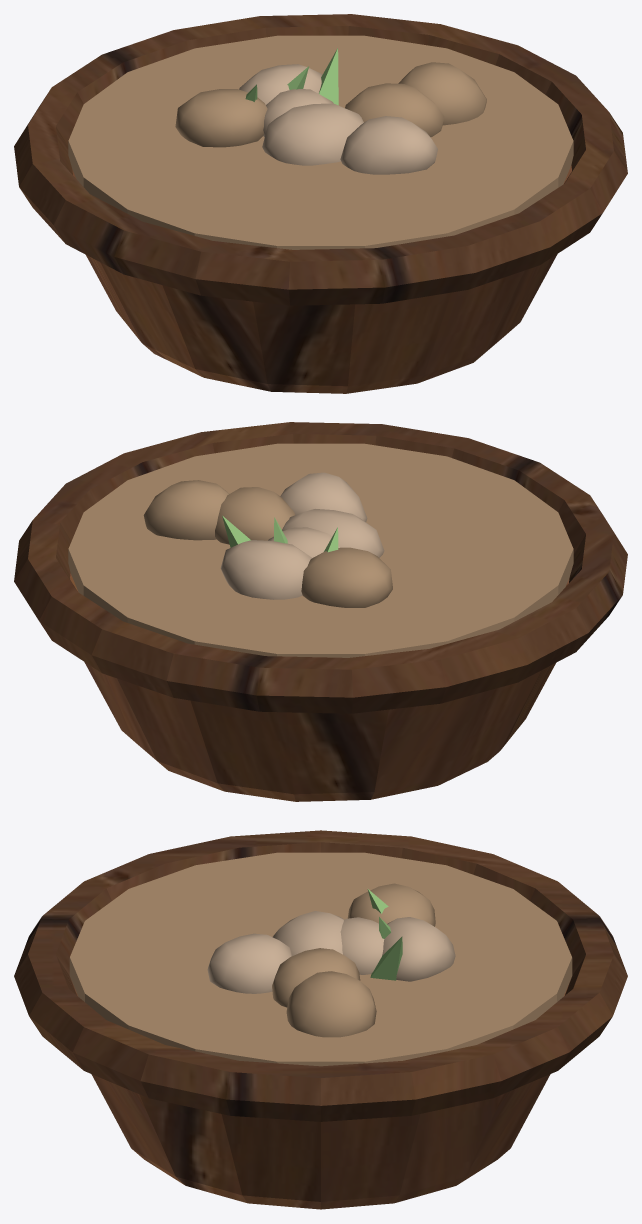
File: dish_hollowcap_stew.glb
The picture shows the model from 3 angles, top to bottom: view 1: azimuth 30°, elevation 25°; view 2: azimuth 150°, elevation 25°; view 3: azimuth 270°, elevation 25°; orthographic projection.
Parts seen in each view (by area): view 1: model; view 2: model; view 3: model.
Boxes of the visible parts, x1,y1,x2,y2 form: model: (14,14,627,393); model: (14,422,627,801); model: (14,830,627,1209).
Bounding box in the file's own units: 0.264 × 0.1073 × 0.264.
6 materials, 2 textured.
